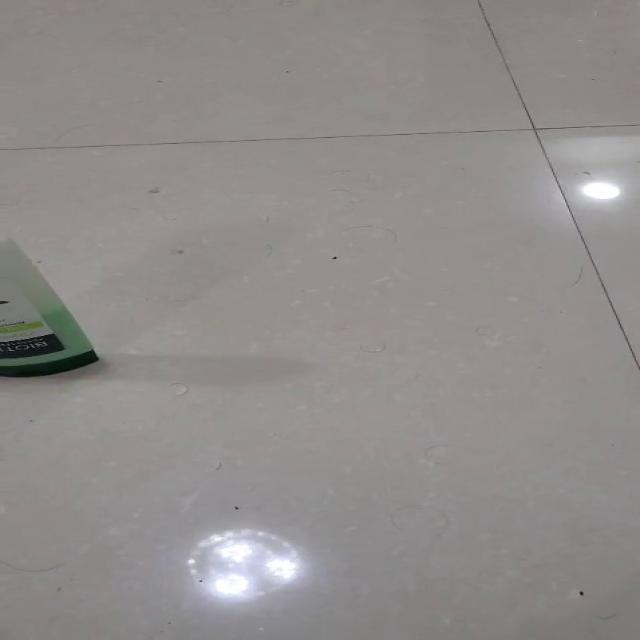plastic: (0, 236, 99, 377)
